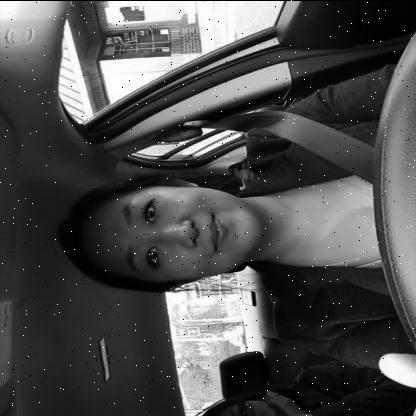seatbelt: (36, 104, 382, 302)
